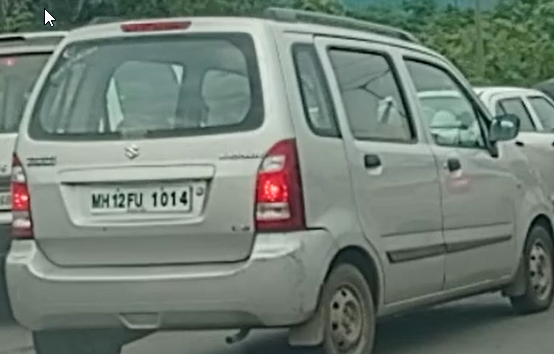MH12FU1014: (88, 184, 192, 214)
